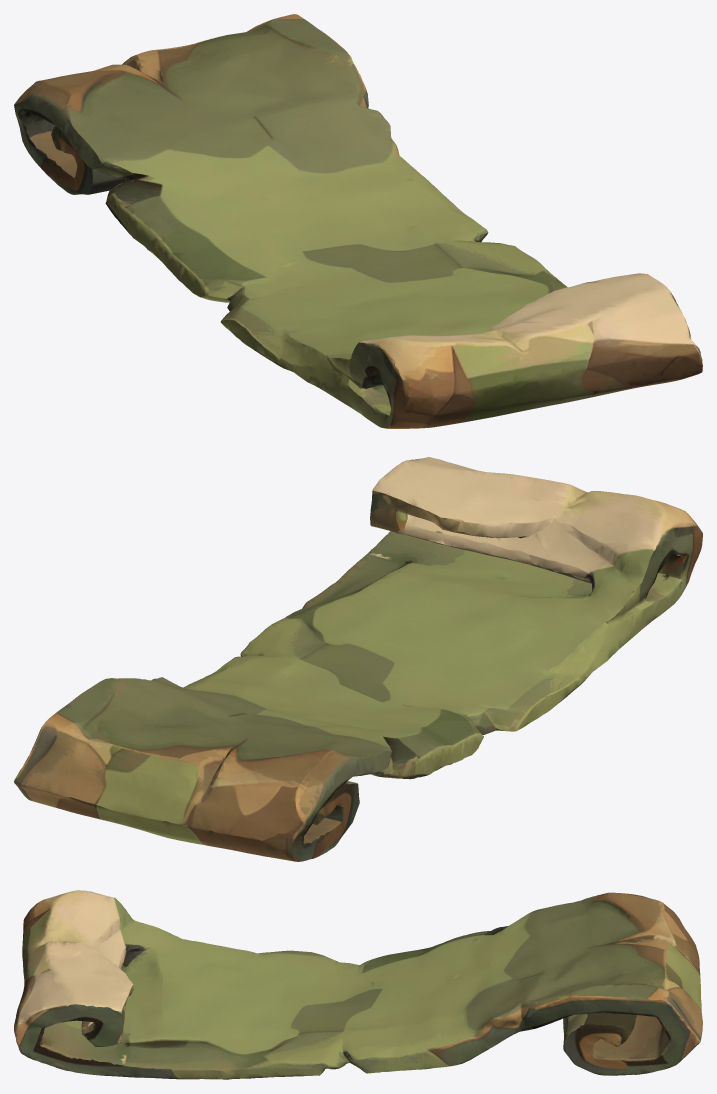
The model's file is item_frost_talisman.glb.
3 renders of one model, top to bottom at view 1: azimuth 30°, elevation 25°; view 2: azimuth 150°, elevation 25°; view 3: azimuth 270°, elevation 25°, orthographic. The views are drawn at different scales.
Visible parts, largest first — view 1: item_frost_talisman; view 2: item_frost_talisman; view 3: item_frost_talisman.
Boxes of the visible parts, x1,y1,x2,y2 form: item_frost_talisman: [14, 14, 702, 428]; item_frost_talisman: [14, 457, 702, 861]; item_frost_talisman: [14, 890, 702, 1079].
Size of the model in its own units: 0.0875 by 0.029 by 0.22.
Materials: 1 (1 with a texture image).
